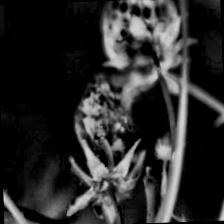Gray Mold: (70, 70, 148, 206)
